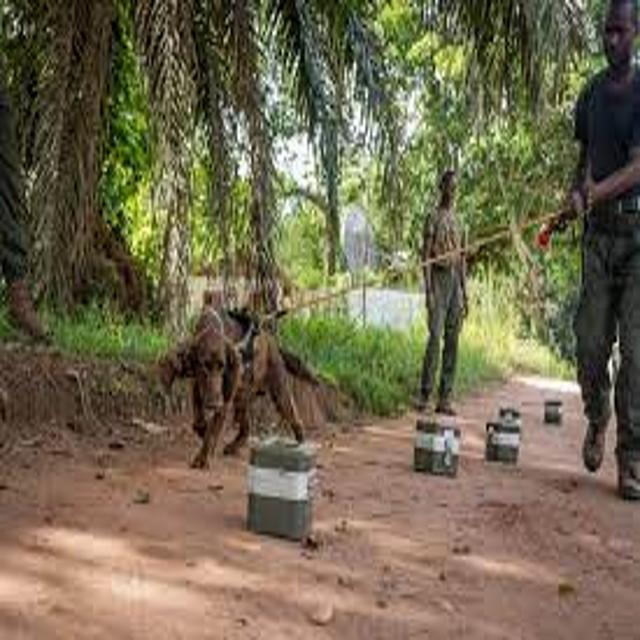dog: (141, 273, 353, 509)
poacher: (512, 1, 640, 543), (378, 147, 500, 434)
